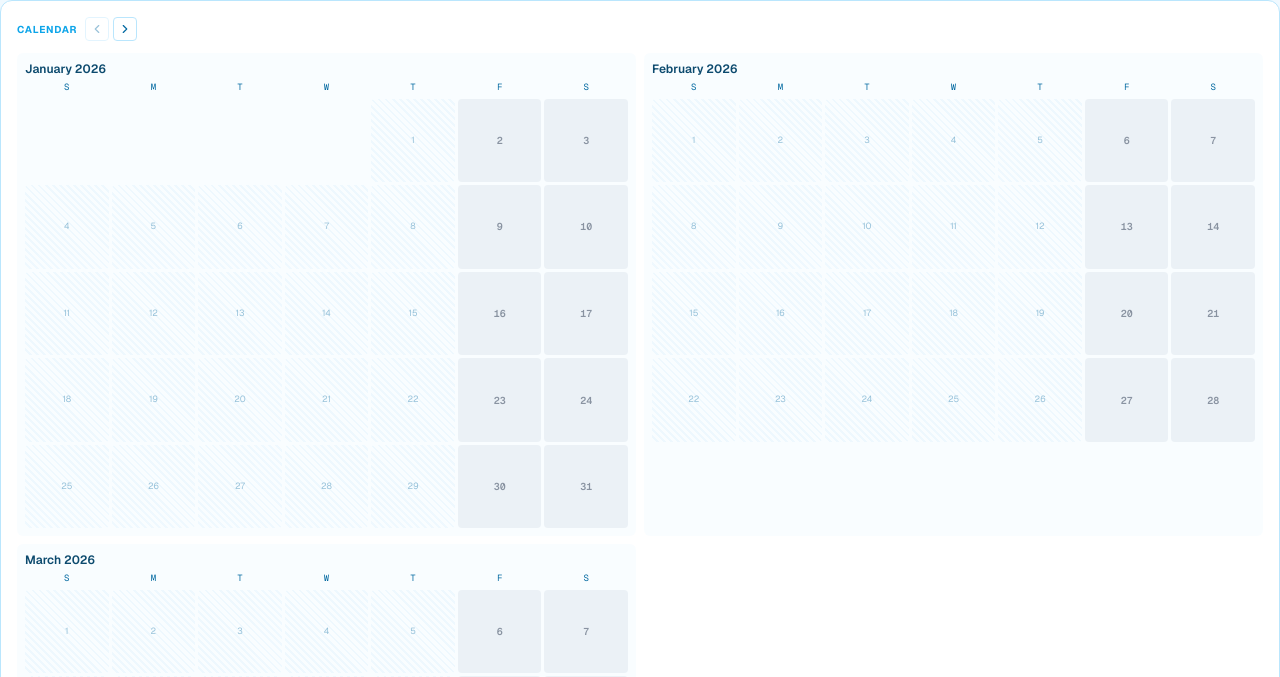
Test case: MiniCalendar month paging › disables each arrow at its bound
This screenshot has width=1280, height=677.
Check: the button named "Show earlier months" is disabled, box x1=85 y1=17 x2=109 y2=41
Click the button named "Show later months".
click(125, 29)  # box x1=113 y1=17 x2=137 y2=41
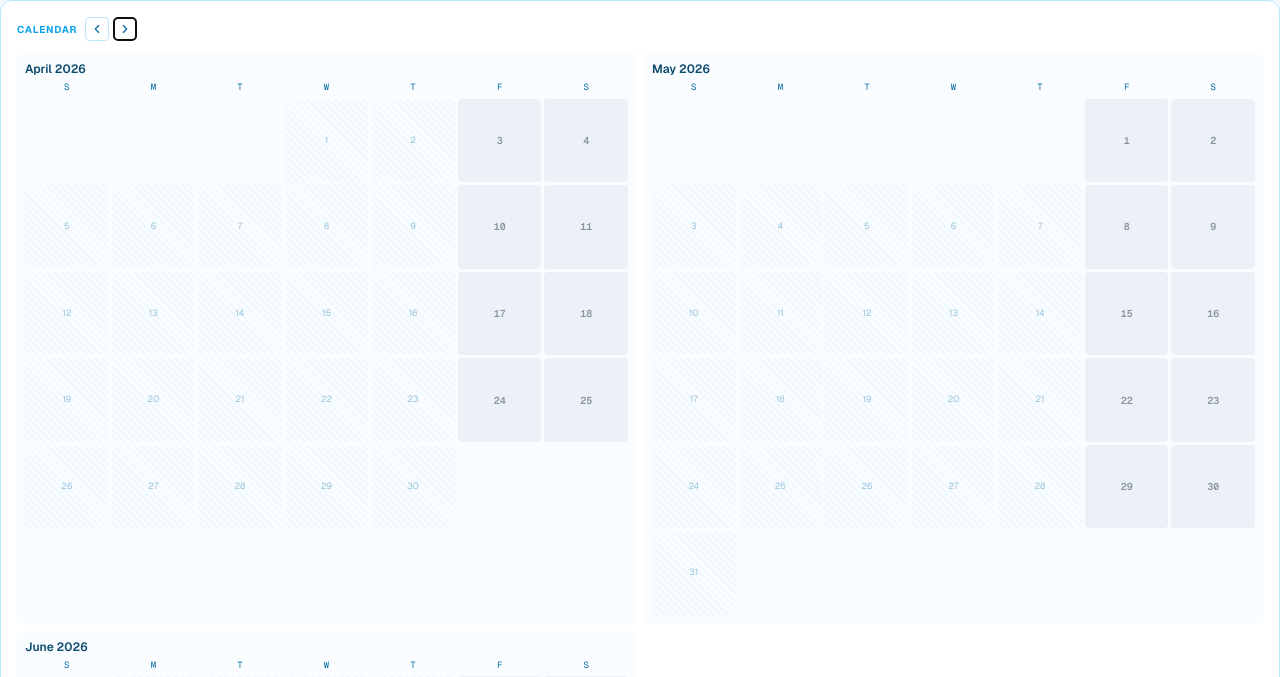
Click the button named "Show later months".
click(125, 29)  # box x1=113 y1=17 x2=137 y2=41
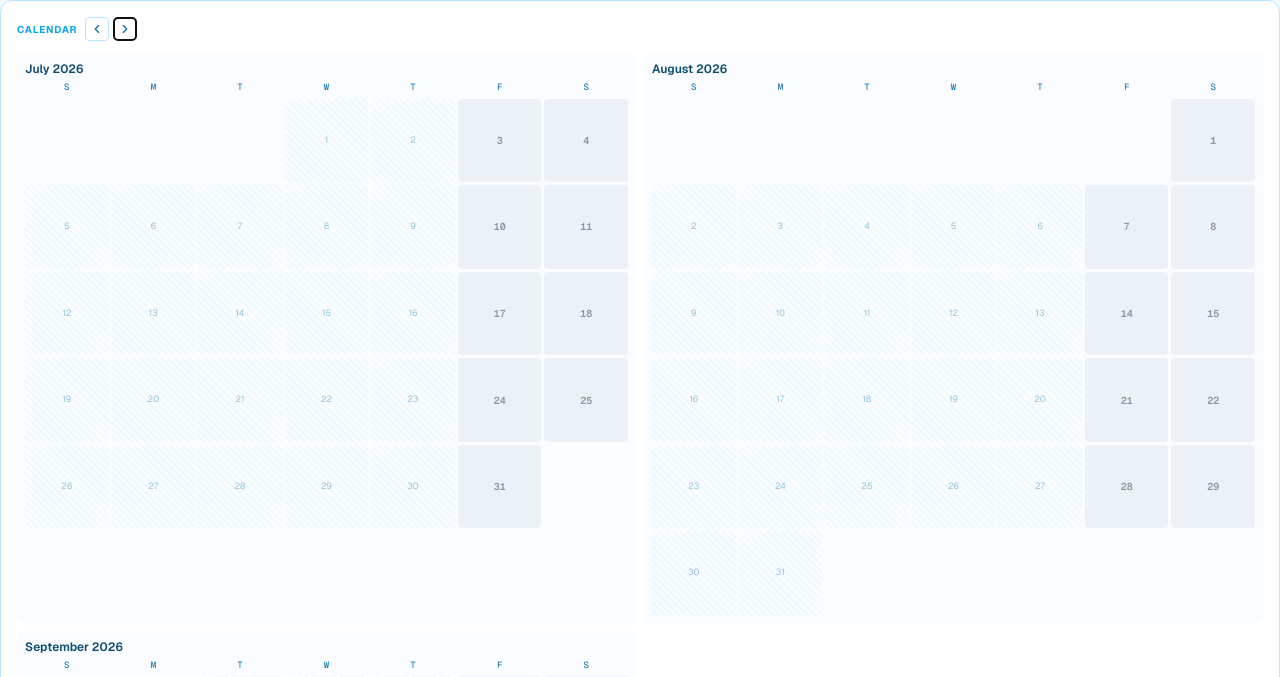
Click the button named "Show later months".
click(125, 29)  # box x1=113 y1=17 x2=137 y2=41
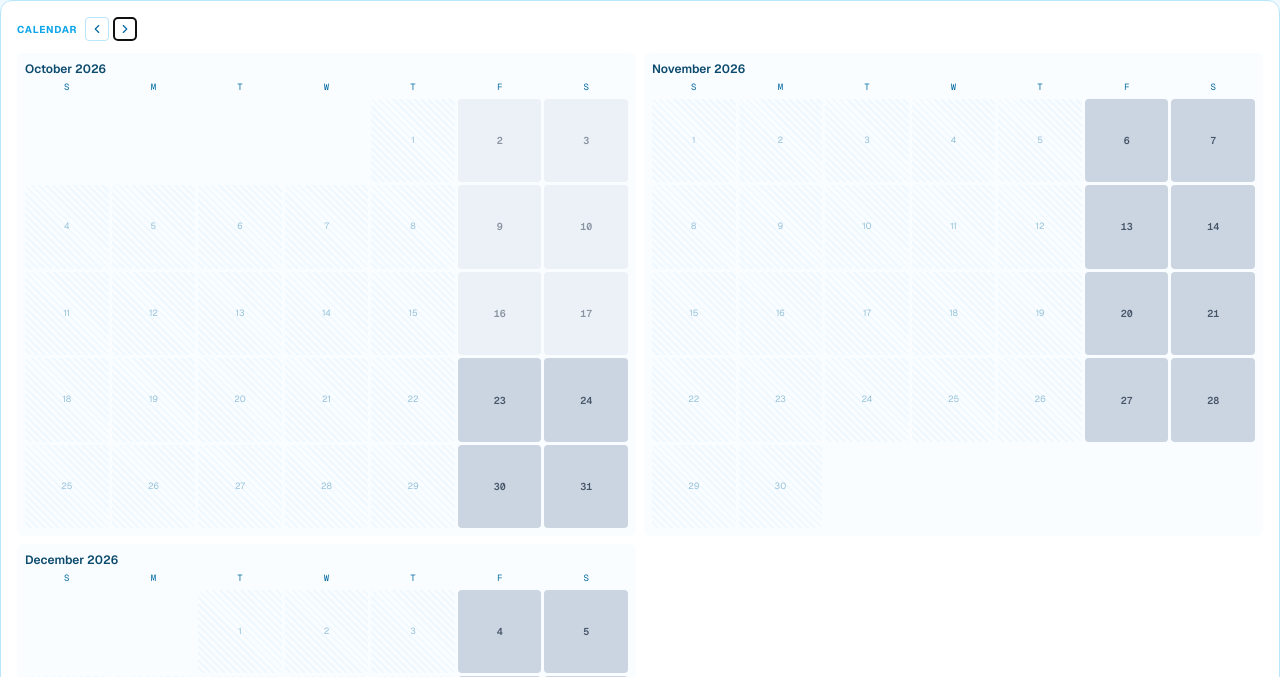
Click the button named "Show later months".
click(125, 29)  # box x1=113 y1=17 x2=137 y2=41
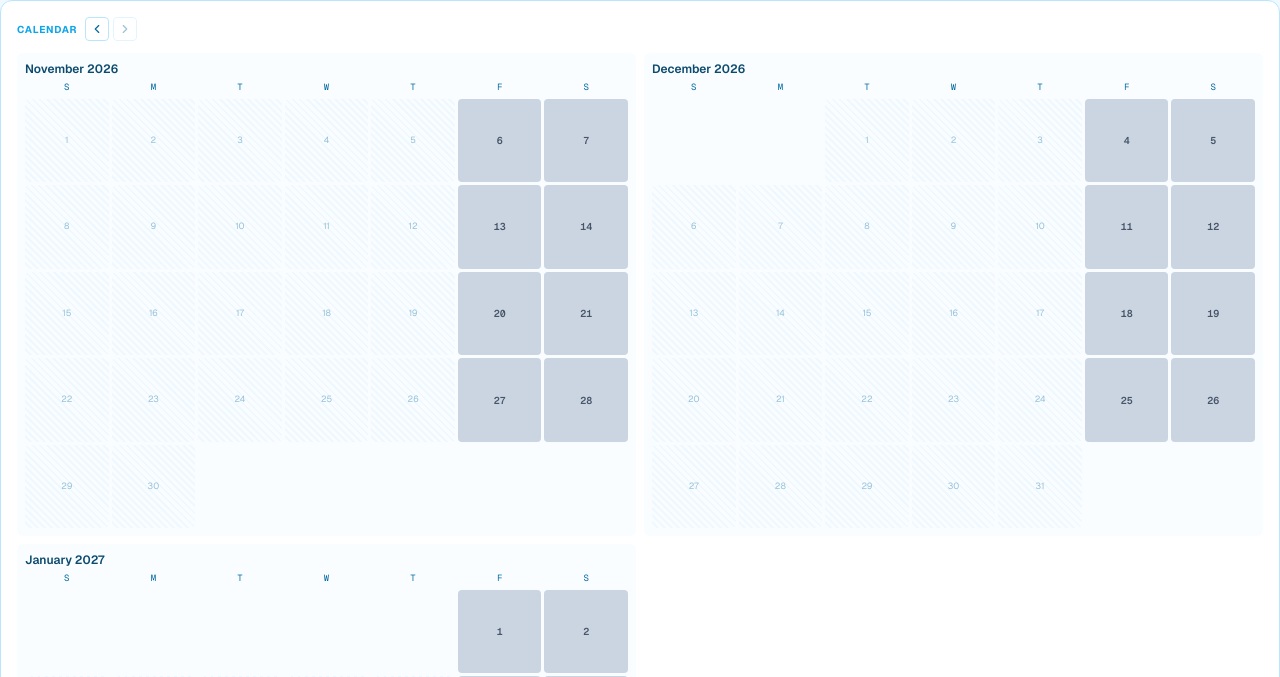
Check: the button named "Show earlier months" is enabled, box x1=85 y1=17 x2=109 y2=41
Check: the button named "Show later months" is disabled, box x1=113 y1=17 x2=137 y2=41
